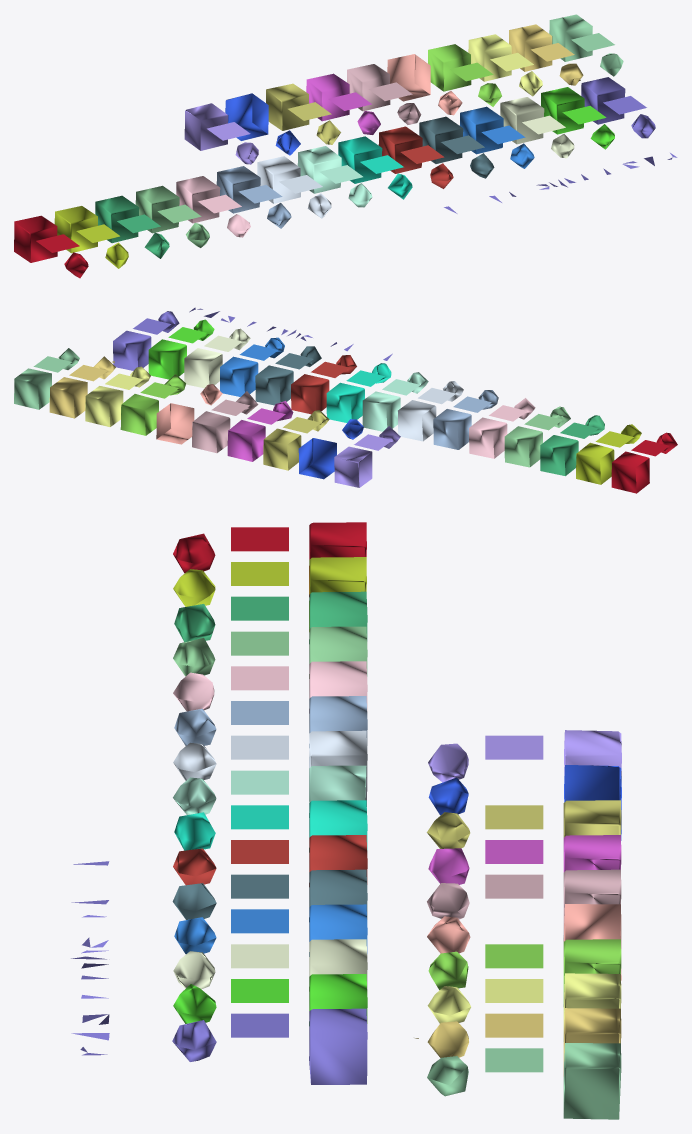
File: india_mmhc_int_mtl_lod5.glb
3 views of the same model, one above another, from view 1: azimuth 30°, elevation 25°; view 2: azimuth 150°, elevation 25°; view 3: azimuth 270°, elevation 25° (orthographic). The views are drawn at different scales.
Bounding box in the file's own units: 83.46 × 3.85 × 35.67.
